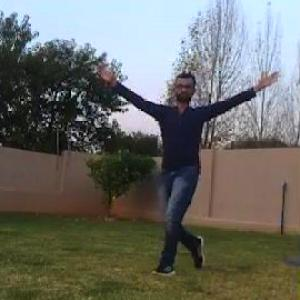takeoff: (142, 78, 299, 272)
